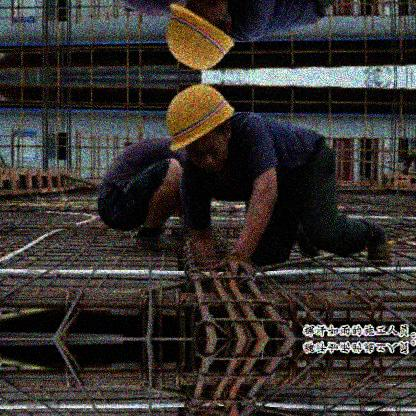helmet: (165, 83, 239, 176), (164, 1, 238, 67)
